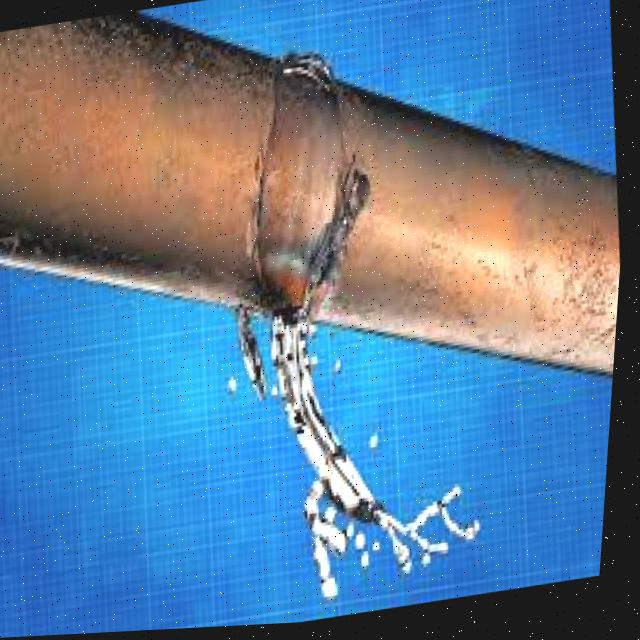corrosion: (195, 188, 397, 529)
